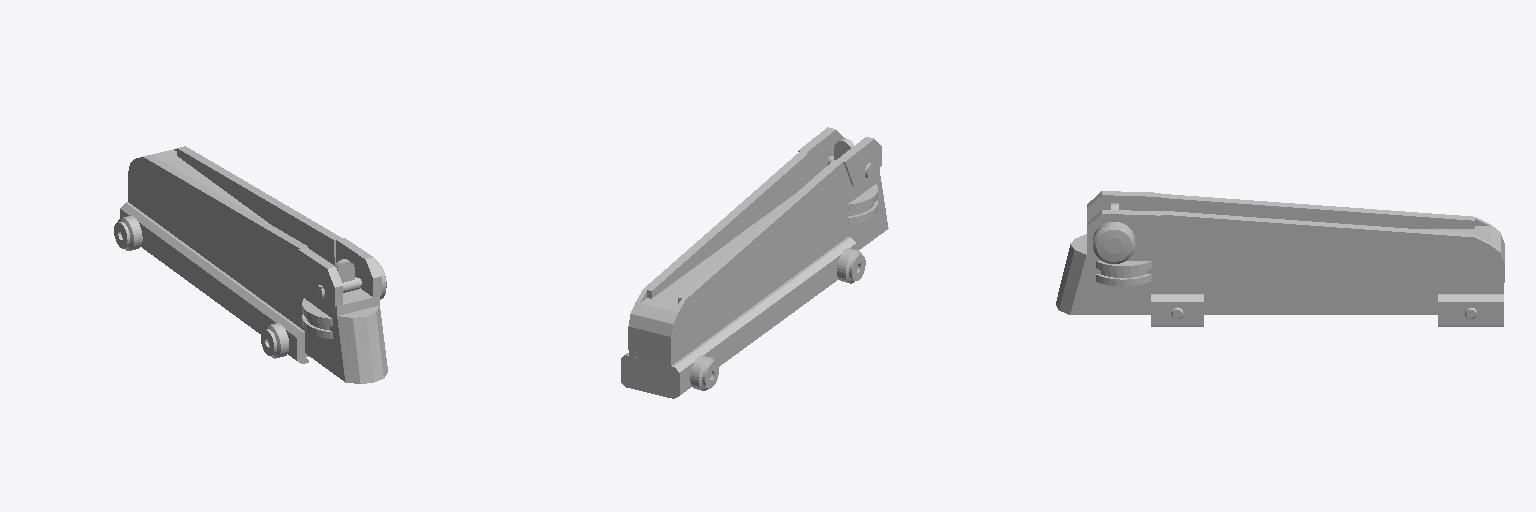
The picture shows the model from 3 angles: view 1: azimuth 30°, elevation 25°; view 2: azimuth 150°, elevation 25°; view 3: azimuth 270°, elevation 25°; orthographic projection.
Visible parts, largest first — view 1: Handle.004_Cube.006; view 2: Handle.004_Cube.006; view 3: Handle.004_Cube.006.
Boxes of the visible parts, x1,y1,x2,y2 form: Handle.004_Cube.006: [114, 146, 387, 383]; Handle.004_Cube.006: [621, 127, 888, 398]; Handle.004_Cube.006: [1056, 191, 1504, 326].
Bounding box in the file's own units: 0.0633 × 0.0861 × 0.3103.